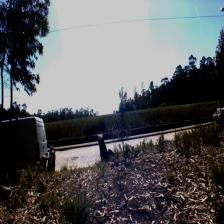trunktrack_idkeyframe: (7, 124, 12, 160), (0, 125, 4, 162)
